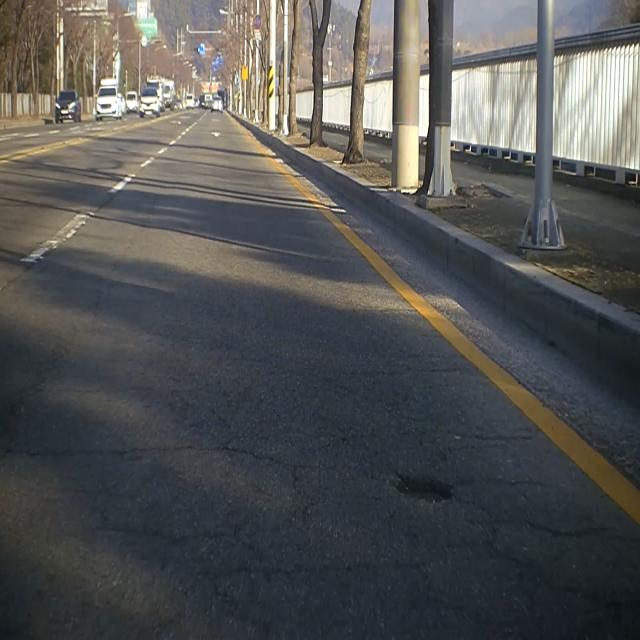Pothole: (393, 470, 457, 514)
